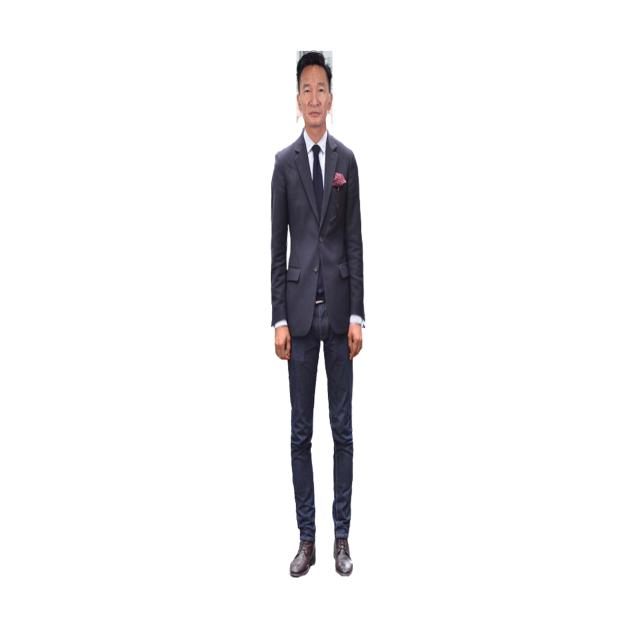jovem: (259, 48, 396, 588)
